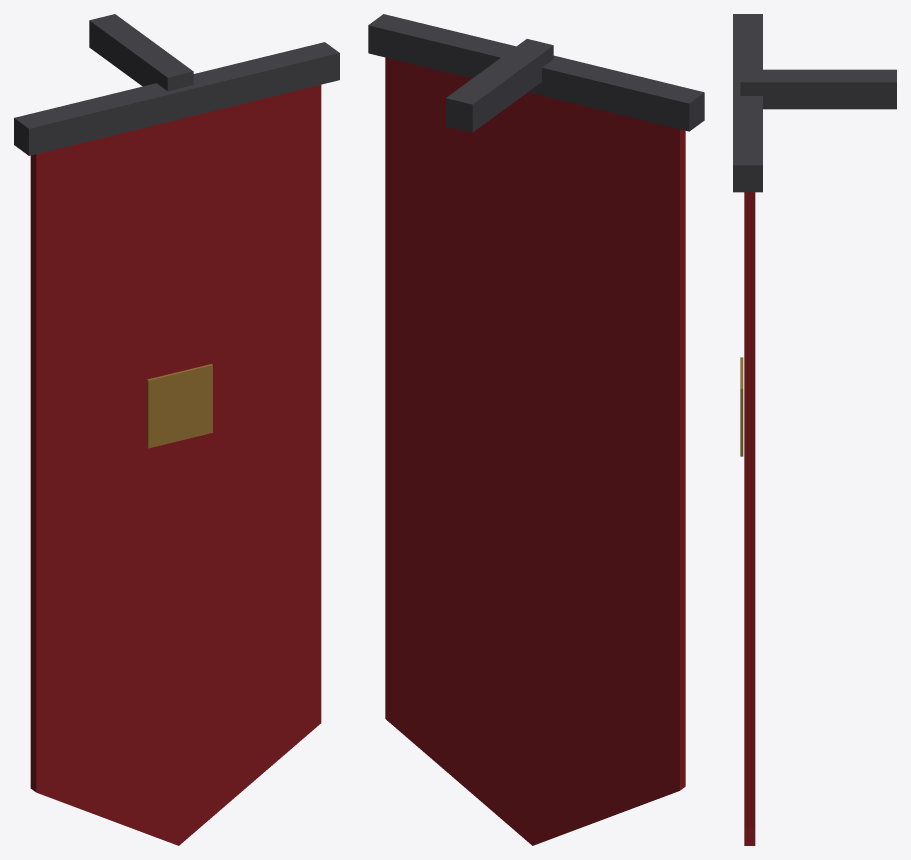
File: Banner.fbx
The picture shows the model from 3 angles, left to right: view 1: azimuth 30°, elevation 25°; view 2: azimuth 150°, elevation 25°; view 3: azimuth 270°, elevation 25°; orthographic projection. The views are drawn at different scales.
Visible parts, largest first — view 1: Kit_Banner; view 2: Kit_Banner; view 3: Kit_Banner.
Part boxes in pixels (x1,y1,x2,y2): Kit_Banner: (14, 14, 339, 845); Kit_Banner: (368, 14, 704, 845); Kit_Banner: (733, 14, 896, 845).
Size of the model in its own units: 0.48 by 1.14 by 0.22.
